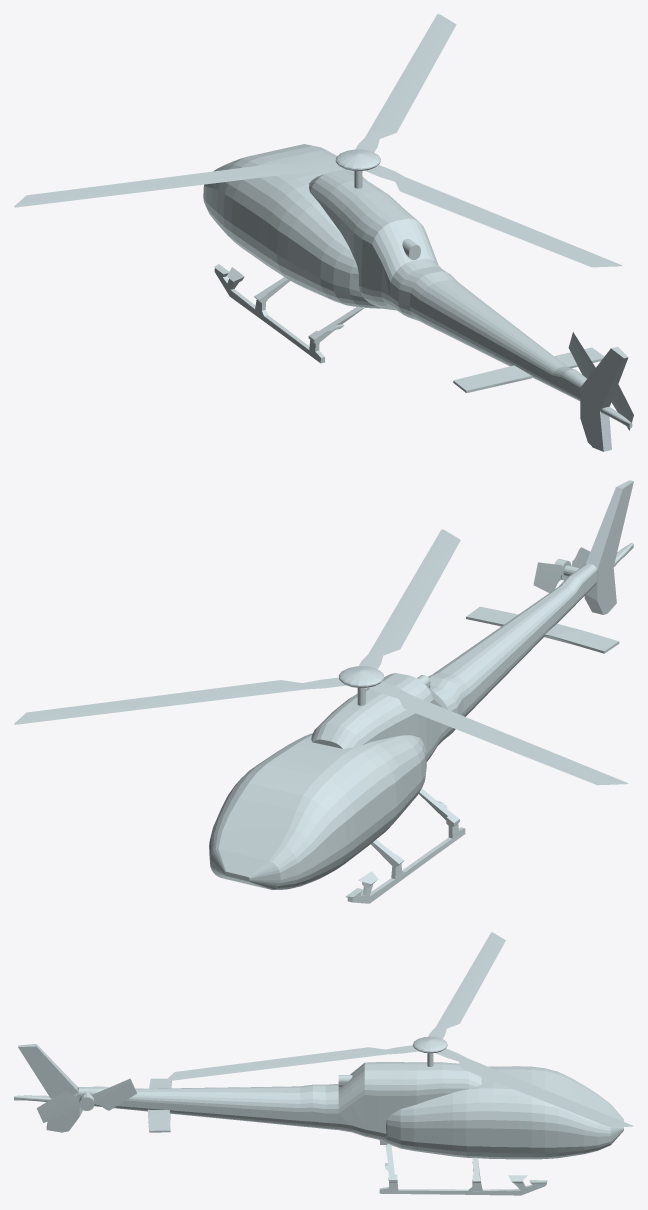
The picture shows the model from 3 angles, top to bottom: view 1: azimuth 30°, elevation 25°; view 2: azimuth 150°, elevation 25°; view 3: azimuth 270°, elevation 25°; orthographic projection. The views are drawn at different scales.
Visible parts, largest first — view 1: Aircraft visual hull, Rotor 1789971672562-7bmken9ft1d, Rotor 1789975207878-wczki242wde; view 2: Aircraft visual hull, Rotor 1789971672562-7bmken9ft1d, Rotor 1789975207878-wczki242wde; view 3: Aircraft visual hull, Rotor 1789971672562-7bmken9ft1d, Rotor 1789975207878-wczki242wde.
Boxes of the visible parts, <box> form: Aircraft visual hull: <box>203,144,632,451</box>; Rotor 1789971672562-7bmken9ft1d: <box>14,14,622,267</box>; Rotor 1789975207878-wczki242wde: <box>568,332,633,430</box>; Aircraft visual hull: <box>209,480,633,903</box>; Rotor 1789971672562-7bmken9ft1d: <box>14,529,628,785</box>; Rotor 1789975207878-wczki242wde: <box>533,547,590,592</box>; Aircraft visual hull: <box>14,1044,623,1195</box>; Rotor 1789971672562-7bmken9ft1d: <box>165,932,633,1127</box>; Rotor 1789975207878-wczki242wde: <box>36,1078,136,1122</box>.
Bounding box in the file's own units: 9.78 × 3.06 × 13.14.
